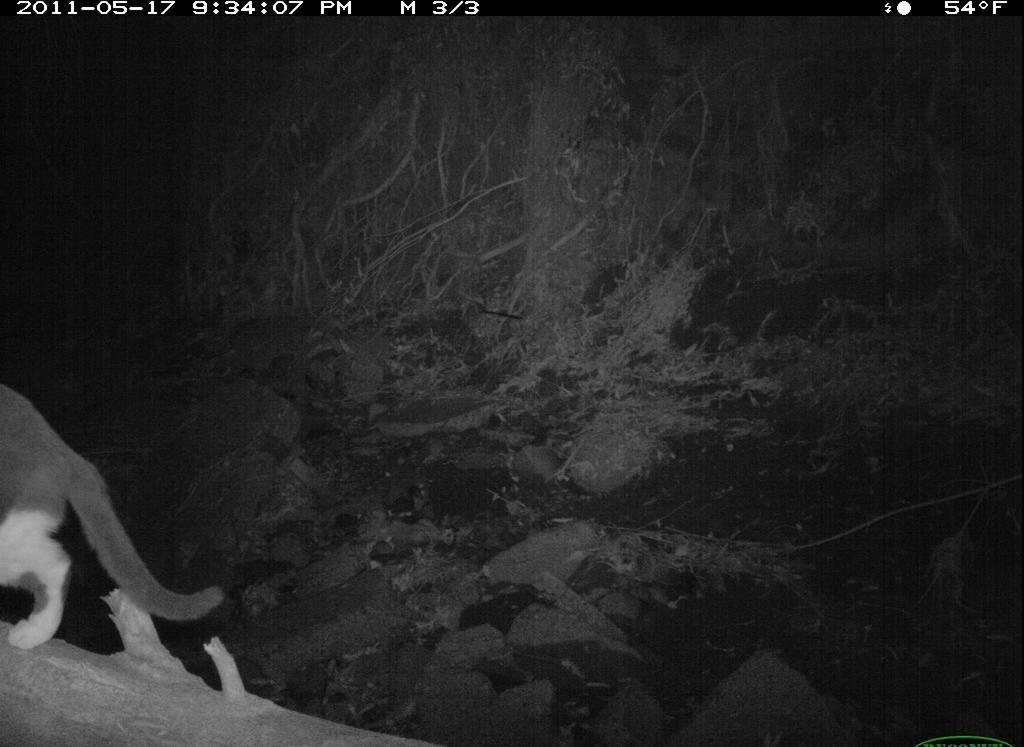cat: (1, 365, 235, 673)
